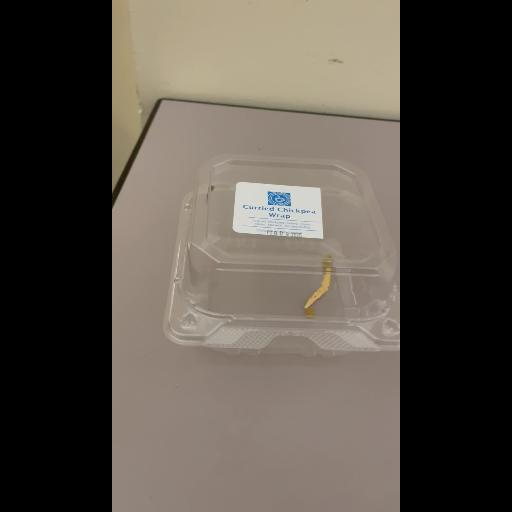small_plastic_container: (162, 151, 400, 359)
